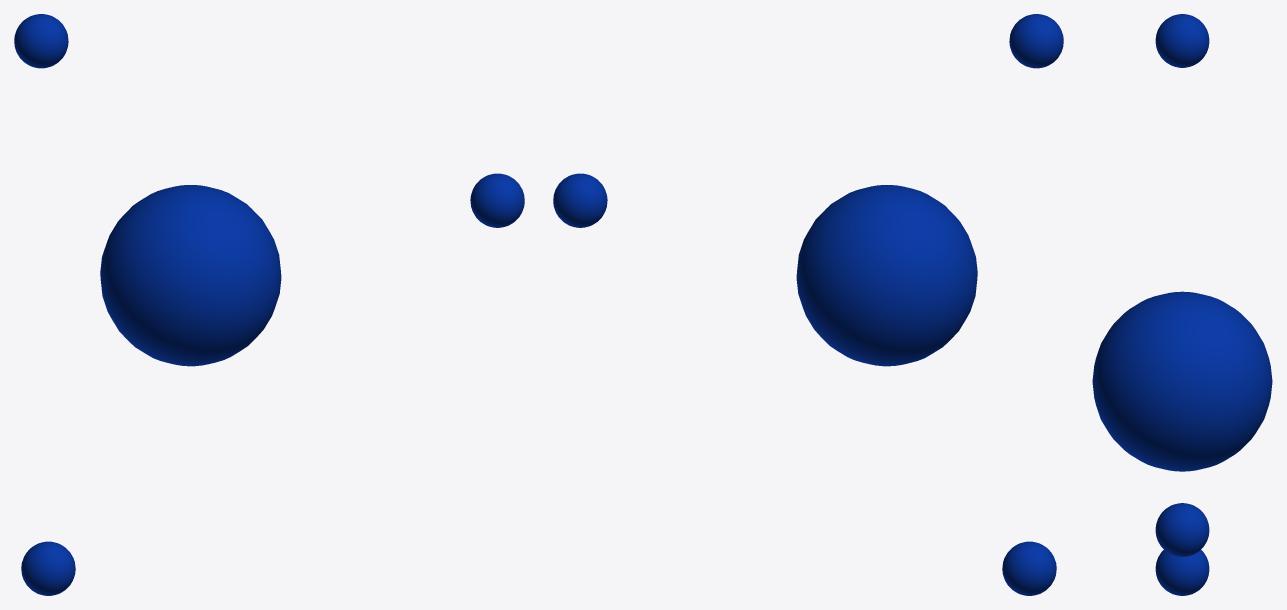
The model's file is atom.dae.
The picture shows the model from 3 angles, left to right: view 1: azimuth 30°, elevation 25°; view 2: azimuth 150°, elevation 25°; view 3: azimuth 270°, elevation 25°; orthographic projection.
Parts seen in each view (by area): view 1: Sphere, Sphere_004, Sphere_003, Sphere_002; view 2: Sphere, Sphere_004, Sphere_003, Sphere_002; view 3: Sphere, Sphere_002, Sphere_003, Sphere_004.
Part boxes in pixels (box(x1,y1,x2,y2)): Sphere: box(100, 185, 281, 366); Sphere_004: box(21, 541, 75, 595); Sphere_003: box(14, 14, 68, 68); Sphere_002: box(470, 173, 524, 227); Sphere: box(796, 185, 977, 366); Sphere_004: box(1002, 541, 1056, 595); Sphere_003: box(1009, 14, 1063, 68); Sphere_002: box(553, 173, 607, 227); Sphere: box(1092, 291, 1272, 471); Sphere_002: box(1155, 503, 1209, 556); Sphere_003: box(1155, 14, 1209, 67); Sphere_004: box(1155, 550, 1209, 595).
Size of the model in its own units: 6.4 by 2 by 7.03.
